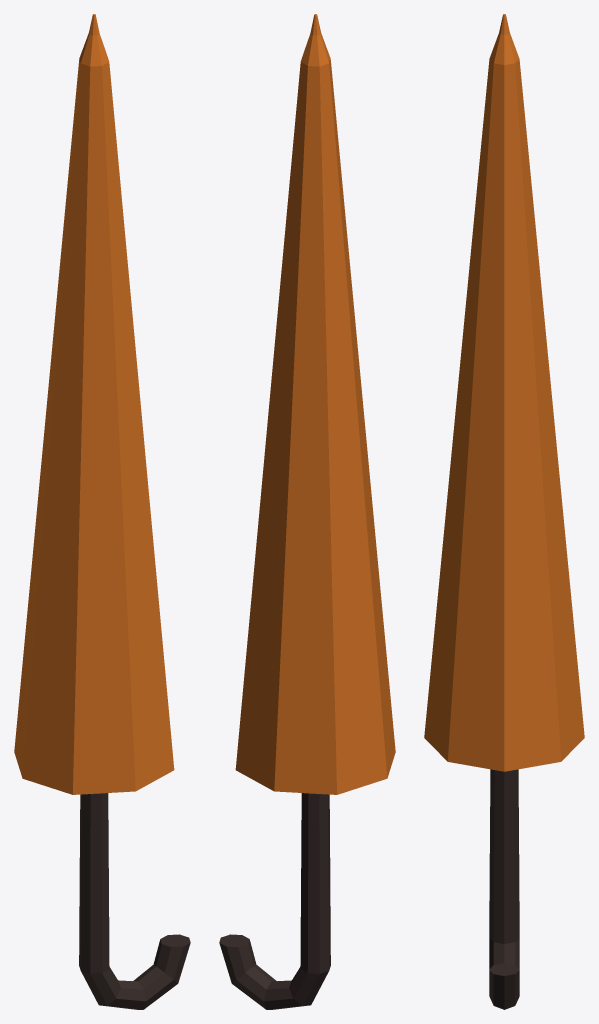
File: Umbrella_Closed.fbx
3 renders of one model, left to right at view 1: azimuth 30°, elevation 25°; view 2: azimuth 150°, elevation 25°; view 3: azimuth 270°, elevation 25°, orthographic. The views are drawn at different scales.
Parts seen in each view (by area): view 1: Umbrella_Closed; view 2: Umbrella_Closed; view 3: Umbrella_Closed.
Boxes of the visible parts, bbox=[...] form: Umbrella_Closed: bbox=[14, 14, 190, 1009]; Umbrella_Closed: bbox=[219, 14, 395, 1009]; Umbrella_Closed: bbox=[424, 14, 584, 1009].
Bounding box in the file's own units: 16.5 × 95.17 × 14.21.
